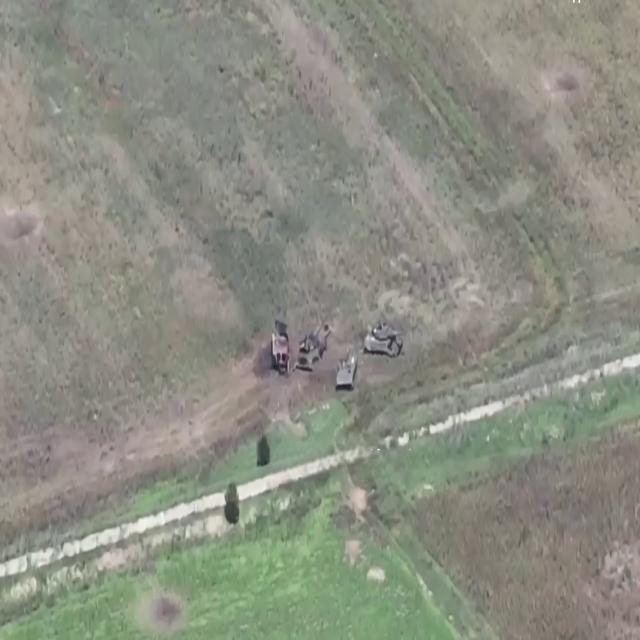AIFV: (271, 324, 291, 374), (335, 350, 359, 390)
MBT: (300, 319, 330, 371), (365, 322, 406, 359)
